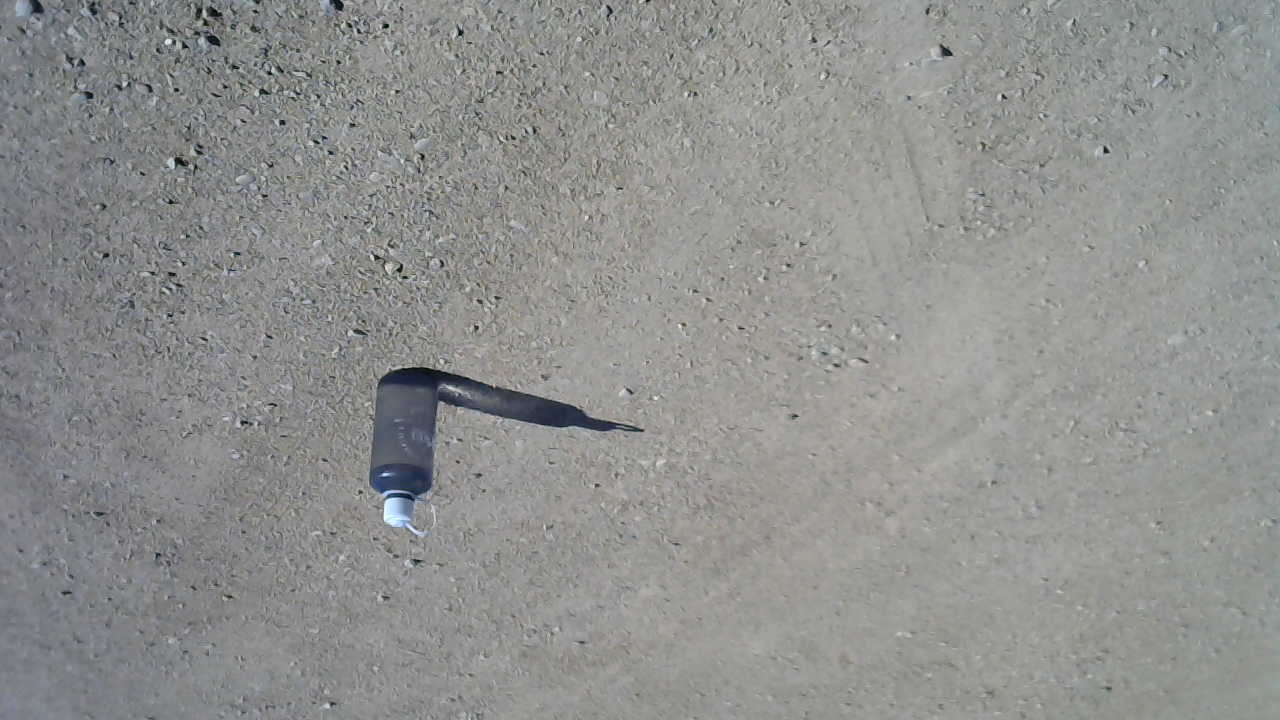bottle: (359, 352, 440, 541)
